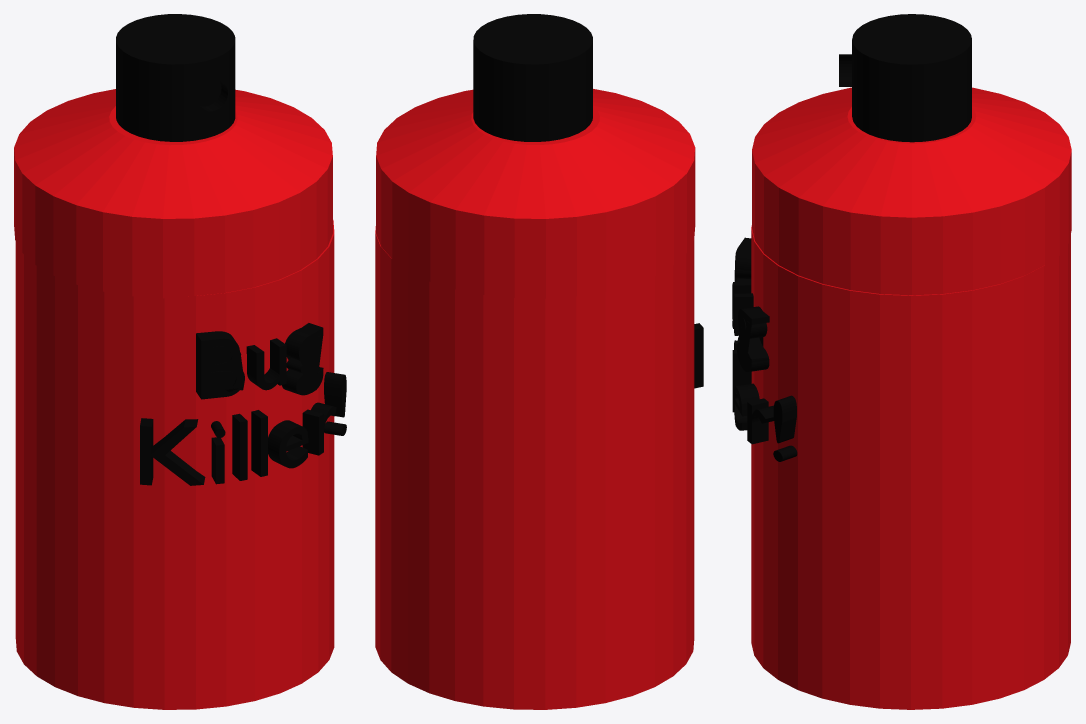
The model's file is Spray_bottle.fbx.
3 views of the same model, side by side, from view 1: azimuth 30°, elevation 25°; view 2: azimuth 150°, elevation 25°; view 3: azimuth 270°, elevation 25° (orthographic).
Visible parts, largest first — view 1: Cylinder, Cylinder.001, Text, Cylinder.002, Circle; view 2: Cylinder, Cylinder.001, Cylinder.002, Text; view 3: Cylinder, Cylinder.001, Cylinder.002, Text.
Part boxes in pixels (x1=…): Cylinder: x1=15, y1=220, x2=334, y2=709; Cylinder.001: x1=14, y1=89, x2=332, y2=298; Text: x1=140, y1=323, x2=346, y2=485; Cylinder.002: x1=116, y1=14, x2=235, y2=141; Circle: x1=193, y1=76, x2=227, y2=111; Cylinder: x1=375, y1=226, x2=694, y2=709; Cylinder.001: x1=376, y1=89, x2=695, y2=298; Cylinder.002: x1=473, y1=14, x2=592, y2=141; Text: x1=694, y1=323, x2=703, y2=388; Cylinder: x1=751, y1=225, x2=1070, y2=709; Cylinder.001: x1=752, y1=87, x2=1071, y2=295; Cylinder.002: x1=852, y1=14, x2=971, y2=142; Text: x1=732, y1=237, x2=797, y2=461.
Size of the model in its own units: 42.43 by 87.94 by 44.85.
